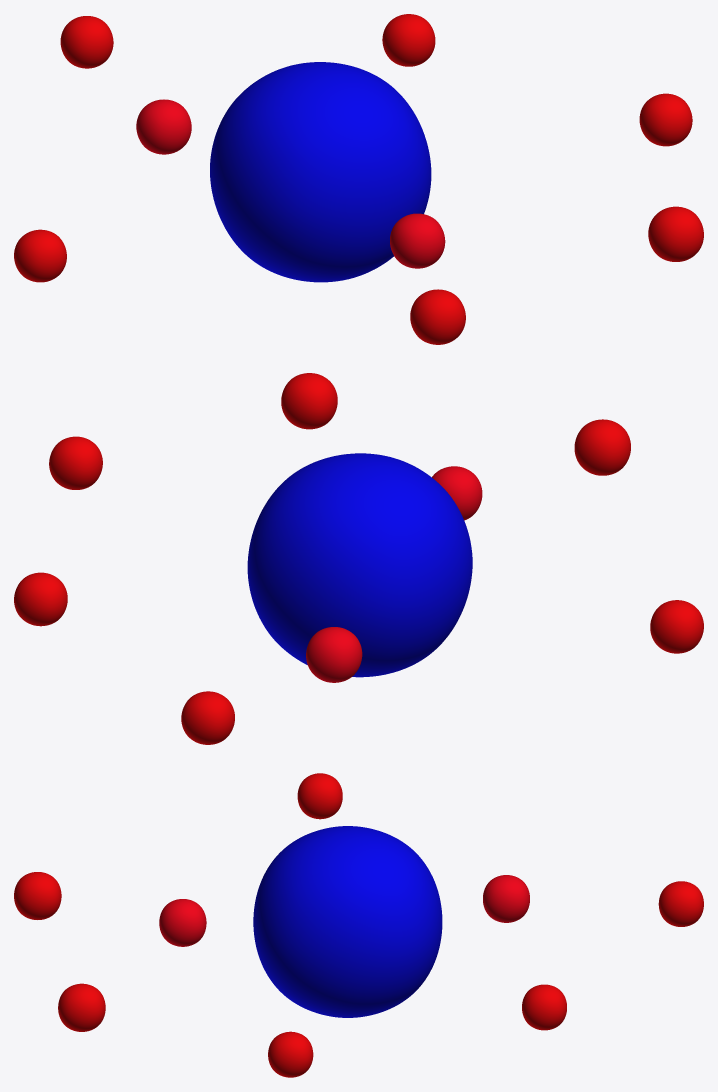
Rendered from oxygen.glb.
3 renders of one model, top to bottom at view 1: azimuth 30°, elevation 25°; view 2: azimuth 150°, elevation 25°; view 3: azimuth 270°, elevation 25°, orthographic. The views are drawn at different scales.
Parts seen in each view (by area): view 1: Cube, Cube.008, Cube.005, Cube.003, Cube.002, Cube.006, Cube.007, Cube.001, Cube.004; view 2: Cube, Cube.008, Cube.005, Cube.003, Cube.007, Cube.004, Cube.006, Cube.001, Cube.002; view 3: Cube, Cube.008, Cube.005, Cube.002, Cube.003, Cube.004, Cube.006, Cube.007, Cube.001.
Part boxes in pixels (box(x1,y1,x2,y2)): Cube: box(210, 62, 431, 282); Cube.008: box(410, 289, 465, 344); Cube.005: box(648, 206, 703, 261); Cube.003: box(136, 99, 191, 154); Cube.002: box(390, 213, 445, 268); Cube.006: box(639, 93, 692, 146); Cube.007: box(382, 14, 435, 66); Cube.001: box(60, 16, 113, 68); Cube.004: box(14, 229, 66, 282); Cube: box(247, 453, 472, 677); Cube.008: box(574, 419, 630, 475); Cube.005: box(281, 373, 337, 429); Cube.003: box(306, 627, 362, 682); Cube.007: box(14, 572, 67, 626); Cube.004: box(650, 600, 703, 653); Cube.006: box(49, 436, 102, 489); Cube.001: box(181, 691, 234, 744); Cube.002: box(432, 466, 482, 520); Cube: box(253, 826, 442, 1017); Cube.008: box(14, 872, 61, 919); Cube.005: box(58, 983, 105, 1031); Cube.002: box(159, 899, 206, 946); Cube.003: box(483, 875, 529, 922); Cube.004: box(297, 773, 342, 819); Cube.006: box(268, 1031, 313, 1077); Cube.007: box(522, 984, 566, 1030); Cube.001: box(658, 881, 703, 926).
Bounding box in the file's own units: 5.83 × 1.68 × 6.13.
